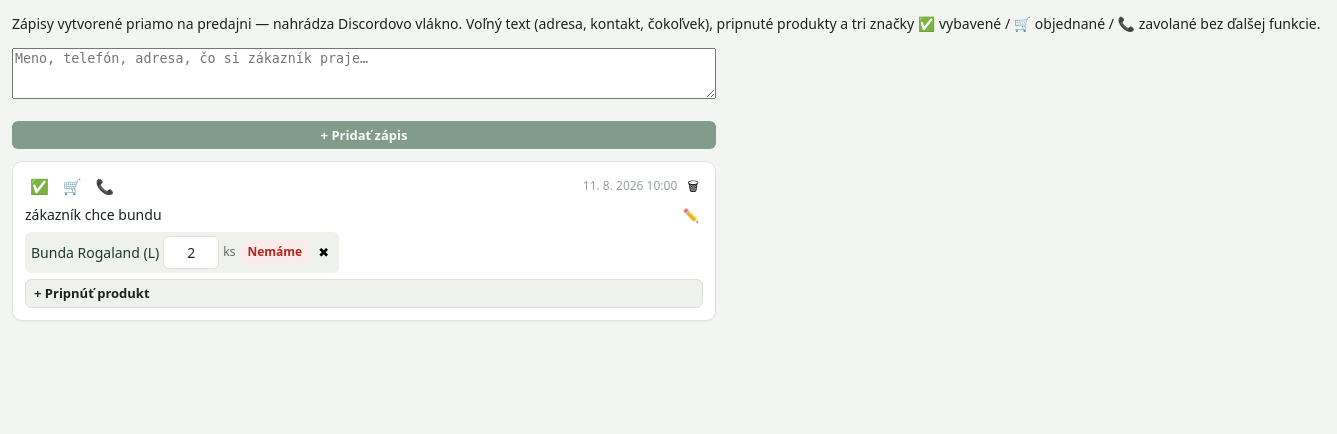
Test: produkt, ktorý je UŽ pripnutý na zápis, má tlačidlo 'Pripnuté' (disabled) vo výsledkoch
This screenshot has width=1337, height=434.
Expected: the link with test id "floor-note-product-link-note-a-40237/L" is shown, [31, 243, 159, 262]
Click the button with test id "floor-note-attach-toggle-note-a": click(92, 293) [25, 279, 703, 308]
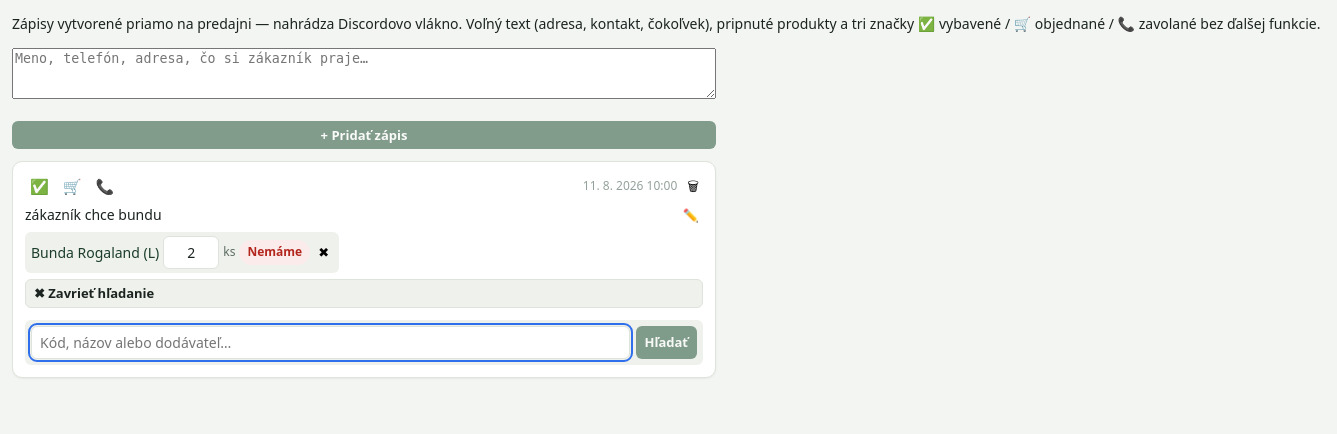
In the search field with test id "floor-note-product-search-input": (330, 342) [31, 326, 630, 359], type "bunda"
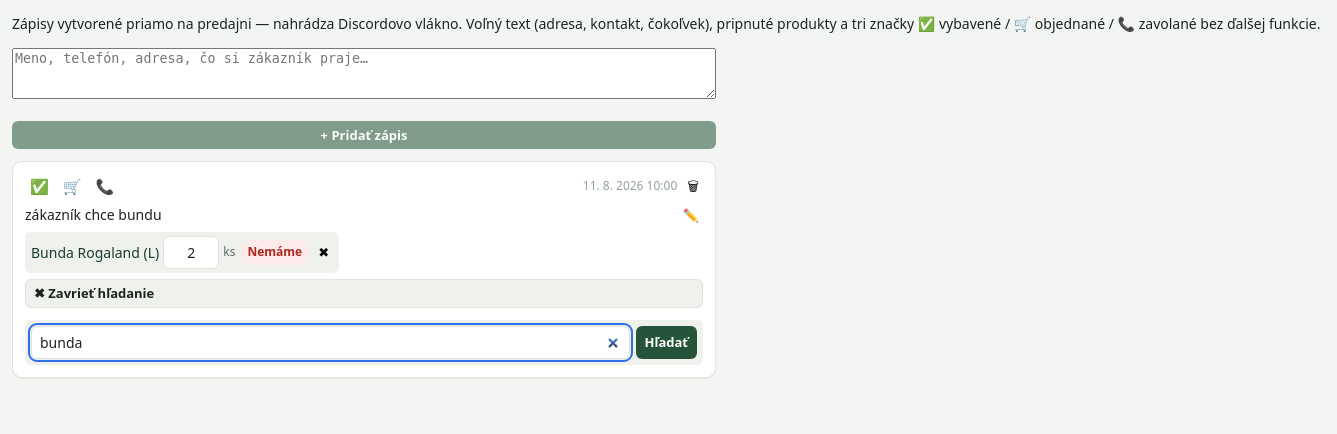
Click the button with test id "floor-note-product-search-submit": click(666, 342) [636, 326, 697, 359]
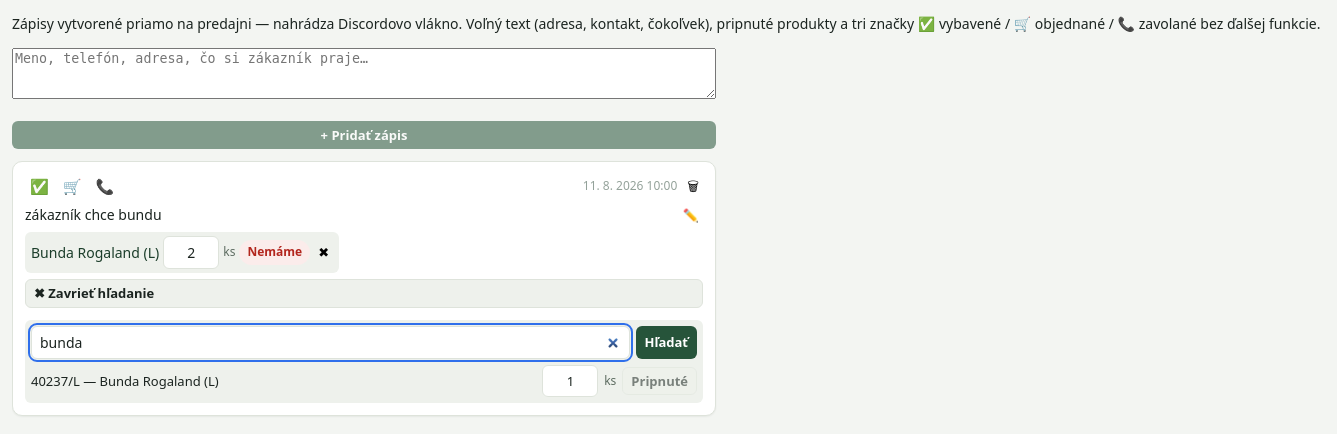
Expected: the button with test id "floor-note-product-pin-40237/L" is disabled, [622, 367, 697, 395]
Expected: the button with test id "floor-note-product-pin-40237/L" reads "Pripnuté", [622, 367, 697, 395]
